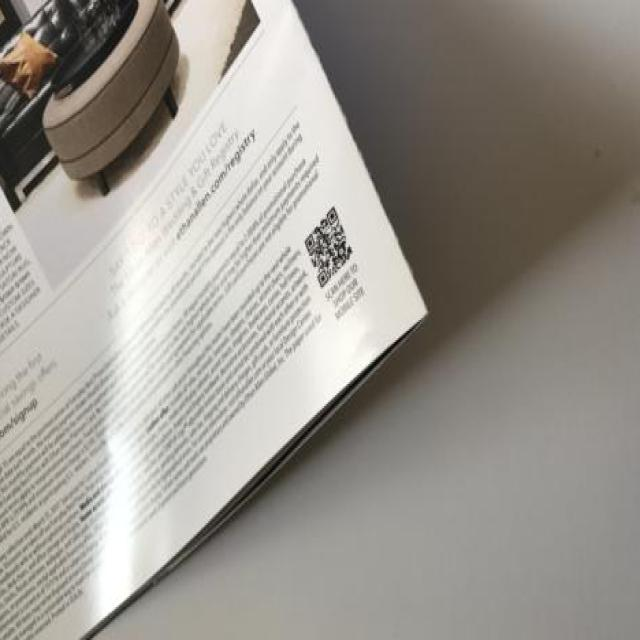kertas: (0, 0, 432, 640)
